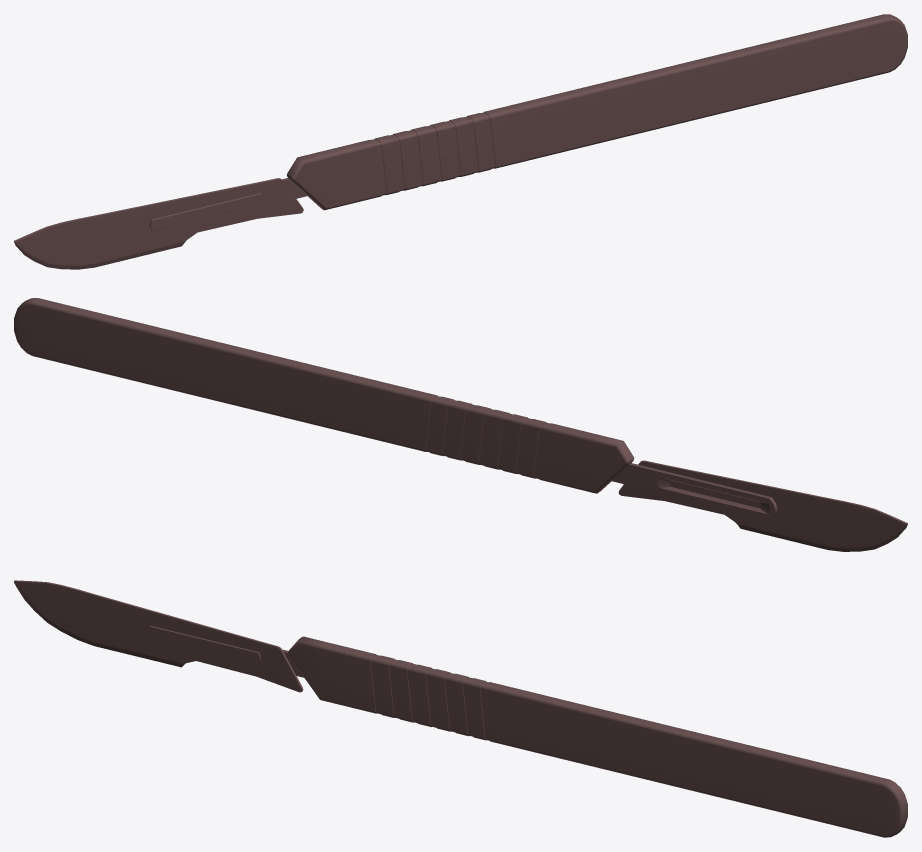
The model's file is Tools_Scalpel01_01.fbx.
The picture shows the model from 3 angles, top to bottom: view 1: azimuth 30°, elevation 25°; view 2: azimuth 150°, elevation 25°; view 3: azimuth 330°, elevation 25°; orthographic projection.
Visible parts, largest first — view 1: Tools_Scalpel01_01:Tool_Scalpel01_Base_01, Tools_Scalpel01_01:Tool_Scalpel01_Blade_01; view 2: Tools_Scalpel01_01:Tool_Scalpel01_Base_01, Tools_Scalpel01_01:Tool_Scalpel01_Blade_01; view 3: Tools_Scalpel01_01:Tool_Scalpel01_Base_01, Tools_Scalpel01_01:Tool_Scalpel01_Blade_01.
Boxes of the visible parts, bbox=[...] form: Tools_Scalpel01_01:Tool_Scalpel01_Base_01: bbox=[149, 14, 907, 230]; Tools_Scalpel01_01:Tool_Scalpel01_Blade_01: bbox=[14, 178, 303, 269]; Tools_Scalpel01_01:Tool_Scalpel01_Base_01: bbox=[14, 298, 777, 519]; Tools_Scalpel01_01:Tool_Scalpel01_Blade_01: bbox=[618, 460, 907, 551]; Tools_Scalpel01_01:Tool_Scalpel01_Base_01: bbox=[147, 625, 907, 837]; Tools_Scalpel01_01:Tool_Scalpel01_Blade_01: bbox=[14, 580, 303, 692].
Size of the model in its own units: 11.04 by 0.6864 by 0.1546.
